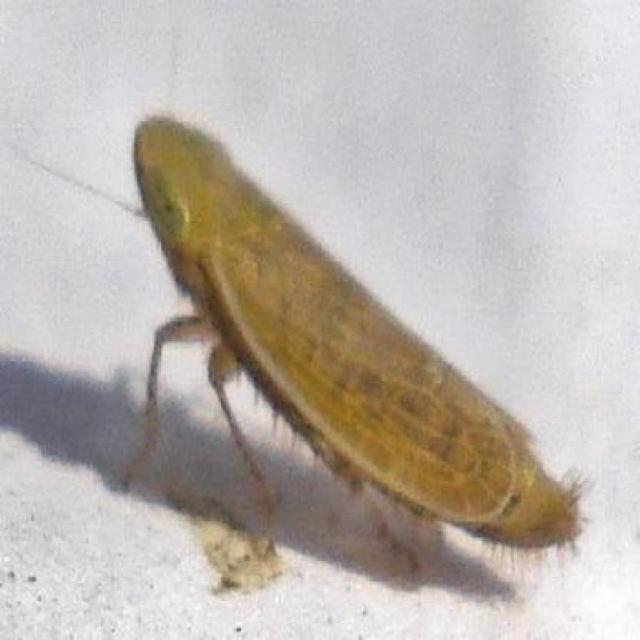green-leafhopper: (115, 109, 582, 576)
